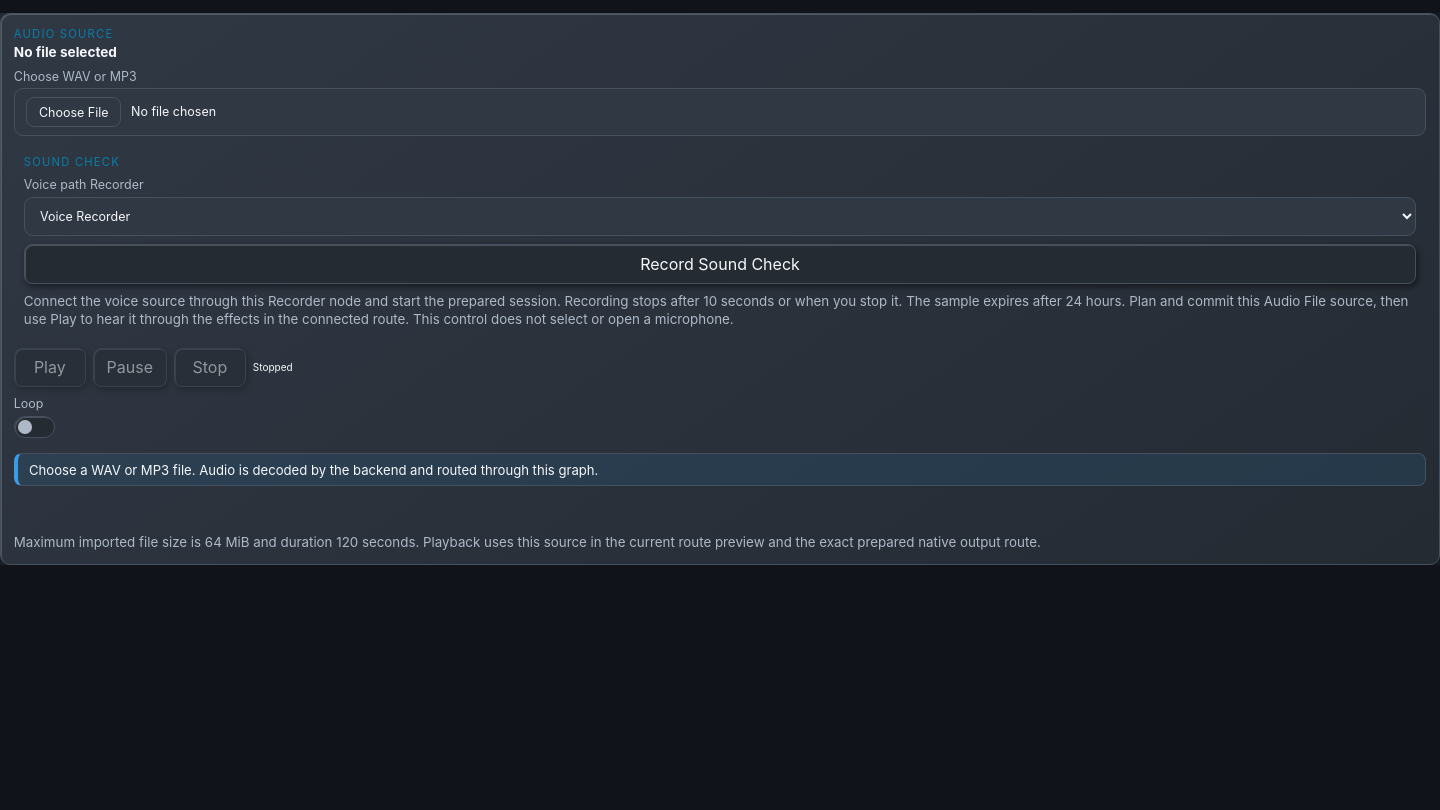
Test: Audio File Sound Check › automatically stops and prepares the take after 10 seconds
This screenshot has width=1440, height=810.
Click the button "Record Sound Check". click: {"x": 720, "y": 264}
box: [24,244,1416,284]
Wait 10000 ms
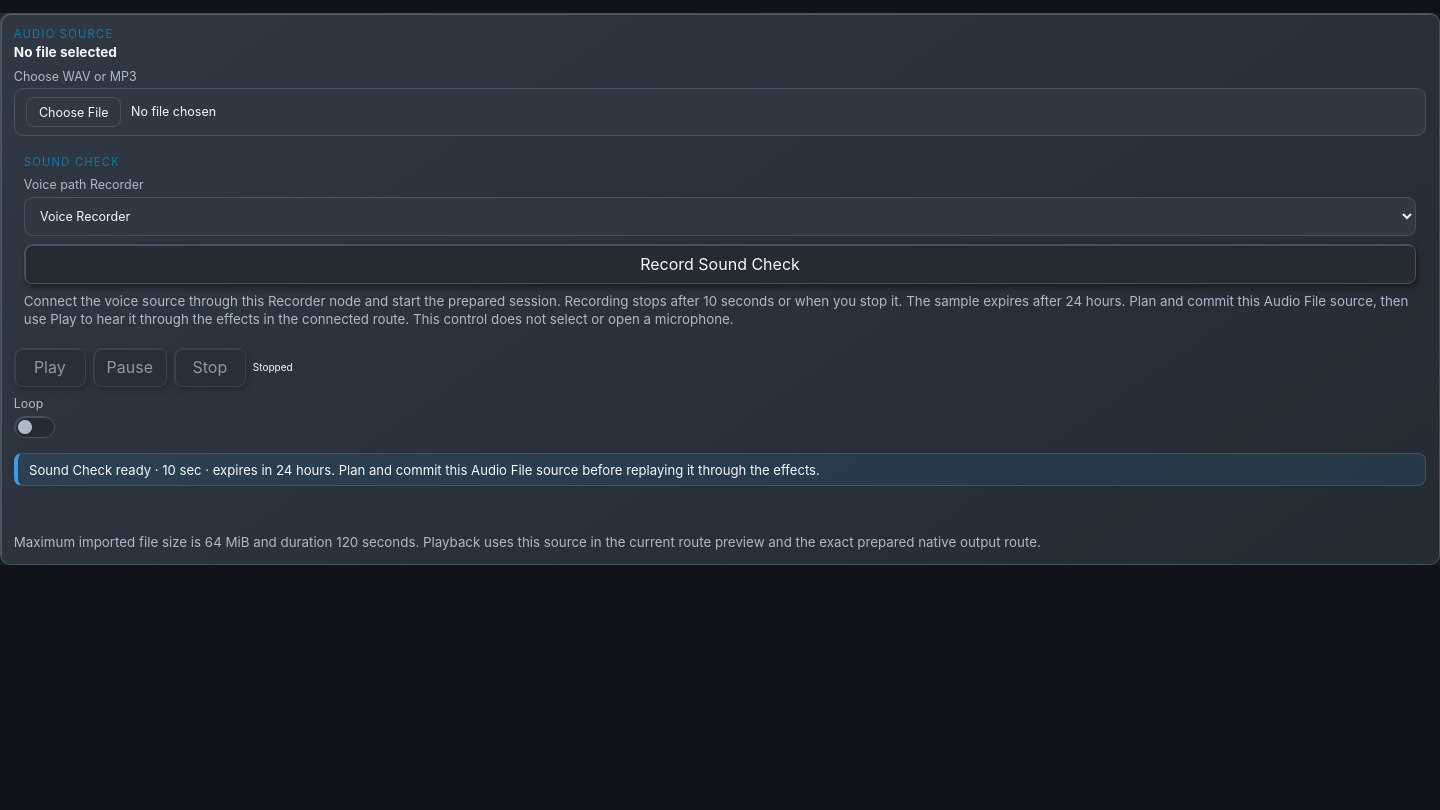
Check: the text "stops automatically after 10 seconds" is shown, box [14,453,1426,486]
Check: the text "Plan and commit this Audio File source before replaying it through the effects" is shown, box [29,462,820,478]
